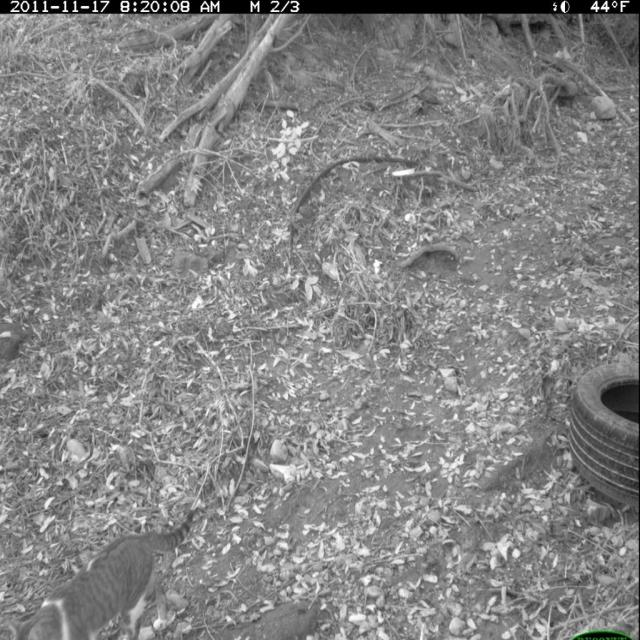cat: (10, 499, 213, 630)
